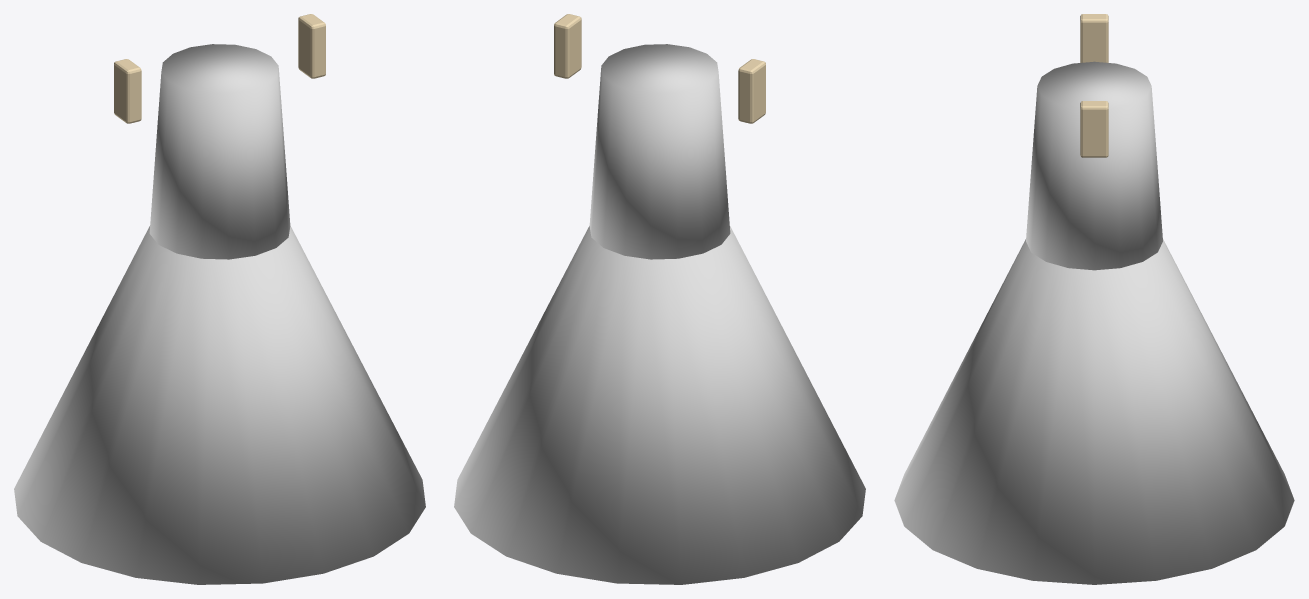
File: dress.glb
3 views of the same model, side by side, from view 1: azimuth 30°, elevation 25°; view 2: azimuth 150°, elevation 25°; view 3: azimuth 270°, elevation 25° (orthographic). The views are drawn at different scales.
Parts seen in each view (by area): view 1: dress; view 2: dress; view 3: dress.
Part boxes in pixels (x1=…): dress: x1=14, y1=14, x2=425, y2=584; dress: x1=454, y1=14, x2=865, y2=584; dress: x1=894, y1=14, x2=1294, y2=584.
Bounding box in the file's own units: 0.7 × 0.85 × 0.7.
